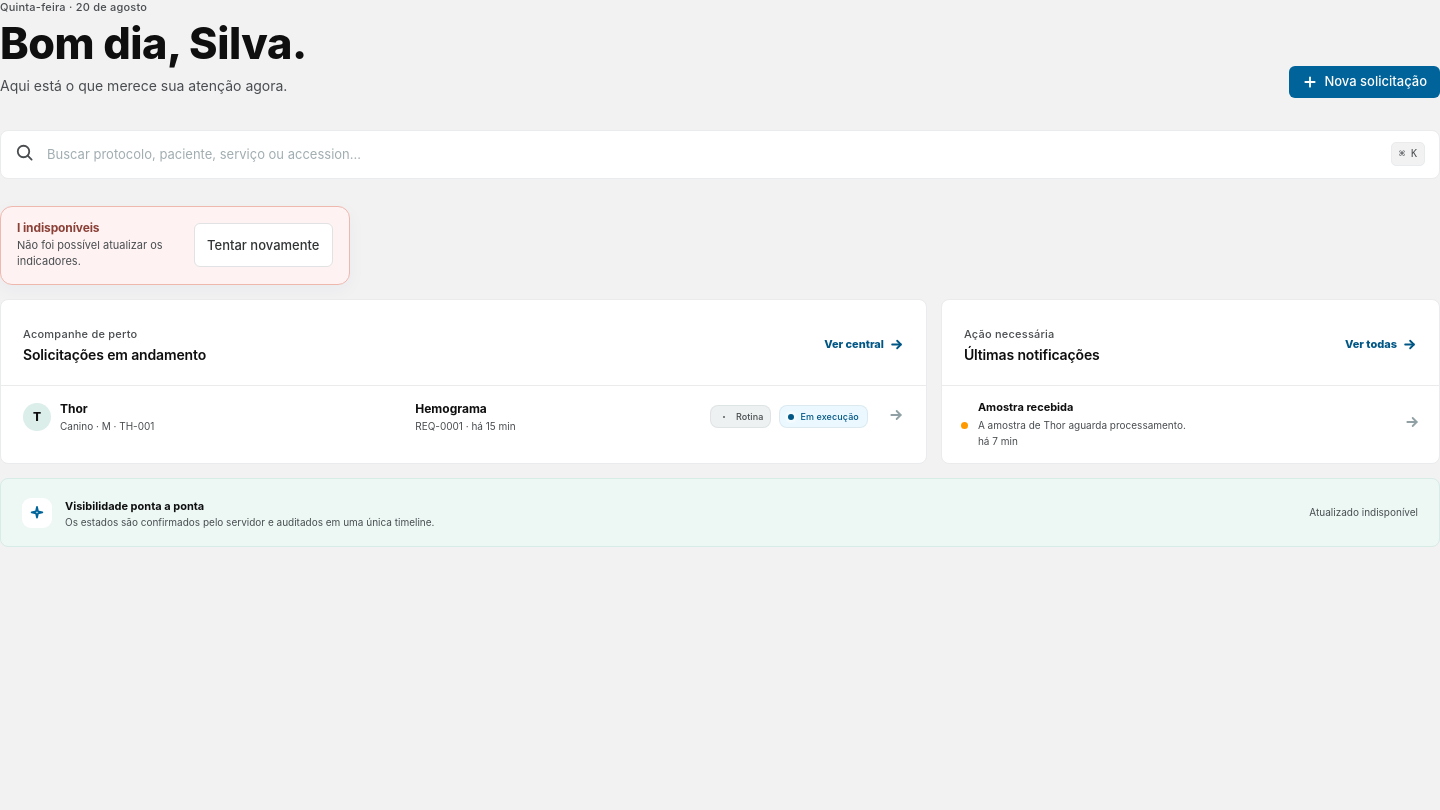
Test: Dashboard resilience › keeps successful blocks visible when the indicators request fails and retries only that block
This screenshot has width=1440, height=810.
Expected: the text "Thor" is shown, [60,401,88,416]
Expected: the text "Amostra recebida" is shown, [978,400,1073,414]
Click the button with aria-label "Tentar novamente: indicadores": (263,245) [194,223,332,267]
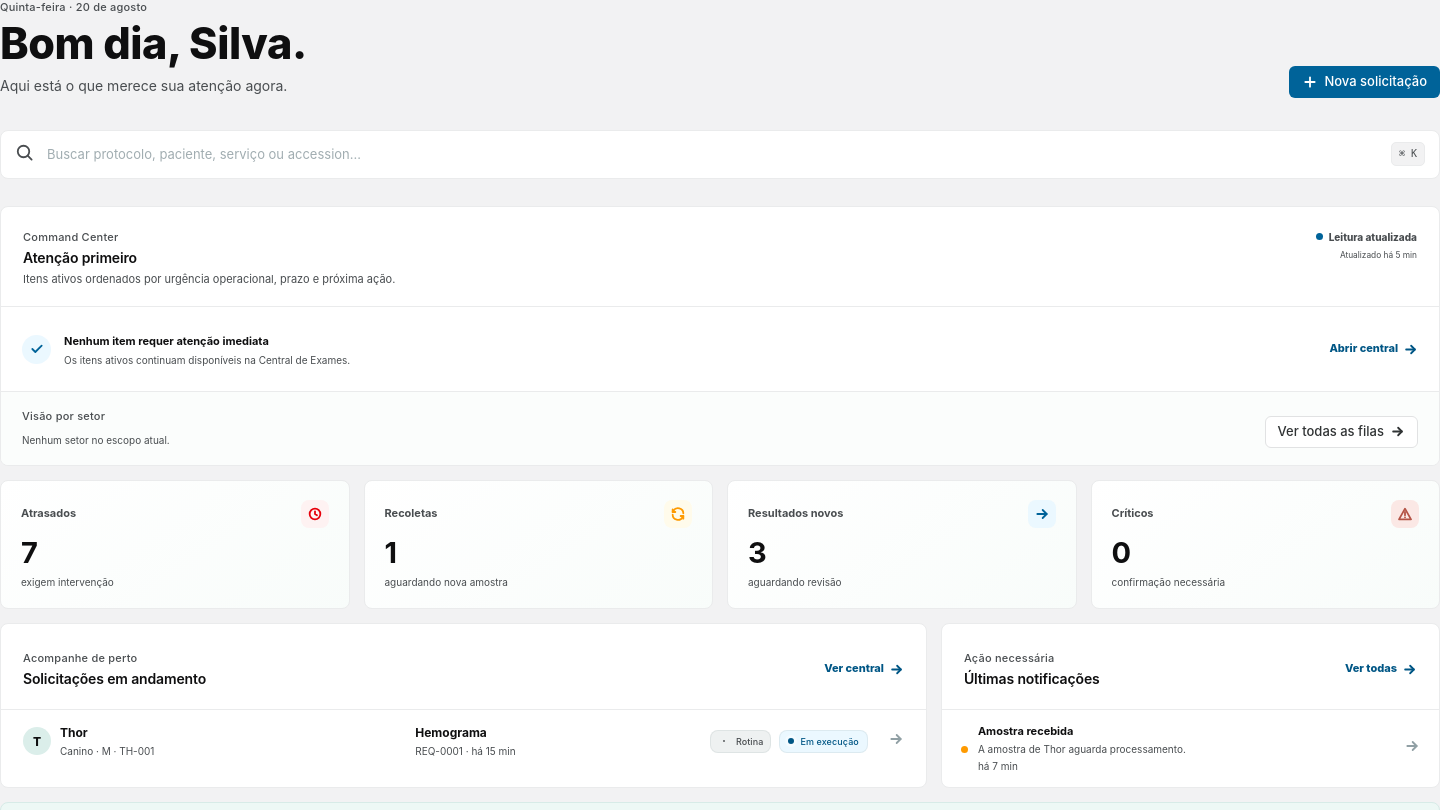
Result: the text "7" is shown at [21,535,36,570]
Result: the text "Não foi possível atualizar os indicadores." is gone
